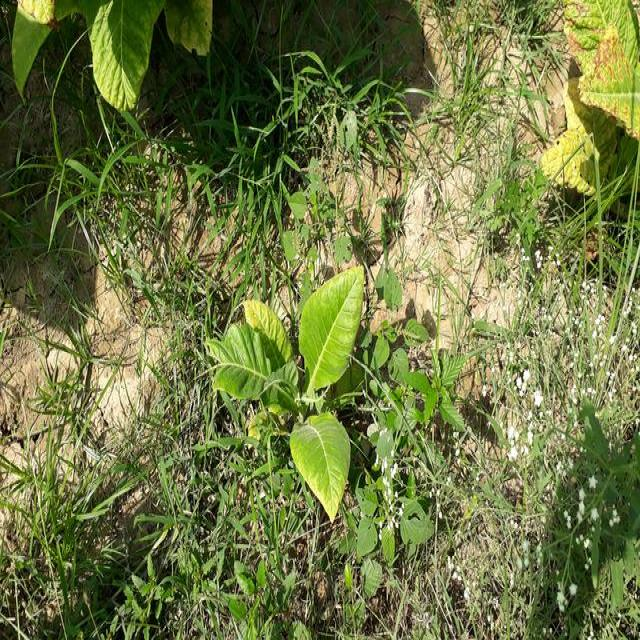crop: (210, 262, 387, 506), (9, 0, 213, 101), (535, 0, 639, 192)
